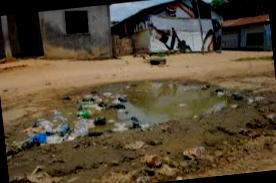Stagnant water: (114, 63, 258, 126)
Trash: (0, 76, 116, 164)
